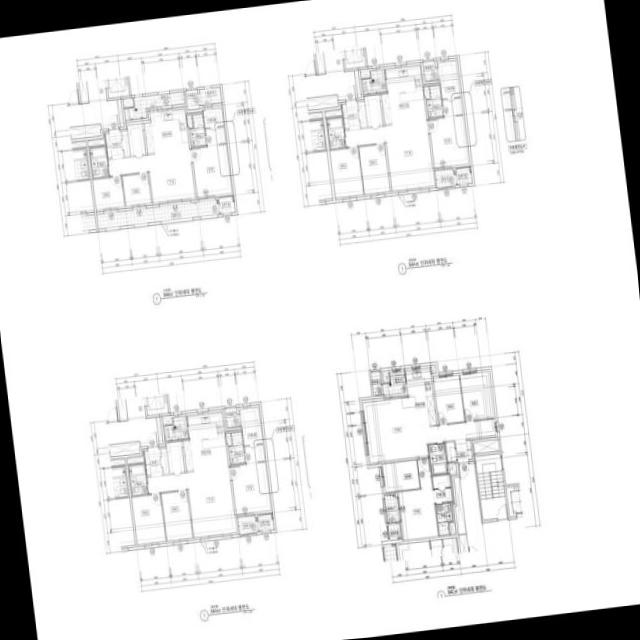background: (0, 0, 640, 640)
space_balconi: (96, 199, 219, 228), (123, 91, 184, 119), (382, 370, 406, 397), (361, 69, 386, 94), (164, 415, 188, 440), (384, 494, 399, 522), (435, 168, 456, 187), (237, 515, 258, 534), (199, 86, 221, 104)
space_bedroom: (398, 458, 437, 540), (230, 461, 270, 514), (191, 144, 231, 196), (428, 115, 468, 167), (329, 146, 363, 197), (131, 493, 165, 544), (459, 371, 493, 420), (358, 143, 389, 193), (160, 490, 191, 540), (433, 375, 464, 423), (92, 175, 124, 209), (121, 172, 150, 205)
space_dressroom: (239, 406, 264, 462), (437, 60, 462, 115), (202, 107, 225, 144), (431, 474, 452, 502)
space_front: (104, 129, 123, 159), (341, 99, 360, 129), (143, 446, 162, 475), (454, 438, 472, 462)
space_kitchen: (380, 64, 426, 124), (182, 411, 228, 470), (143, 108, 189, 153), (404, 367, 436, 427)
space_living_room: (362, 396, 495, 462), (146, 465, 236, 537), (344, 119, 434, 190), (107, 149, 195, 202)
space_multipurpose_space: (382, 459, 419, 491)
space_other: (453, 476, 466, 534), (166, 440, 184, 473), (127, 123, 145, 155), (364, 94, 382, 126), (473, 439, 499, 453), (422, 60, 437, 80), (224, 407, 239, 427), (370, 371, 382, 395), (185, 89, 199, 109), (444, 441, 456, 461), (121, 130, 129, 156), (358, 101, 366, 127), (160, 447, 168, 473), (155, 416, 162, 444), (353, 70, 360, 97), (117, 99, 123, 126), (87, 139, 104, 146), (324, 110, 341, 117), (126, 456, 143, 463), (122, 97, 133, 107), (447, 462, 455, 473), (186, 114, 192, 127), (423, 85, 429, 98), (448, 521, 454, 534), (225, 432, 231, 444), (360, 70, 370, 77), (162, 417, 172, 424), (382, 372, 389, 382), (430, 365, 435, 373)
space_outdoor_room: (218, 195, 235, 213), (455, 166, 472, 184), (257, 513, 274, 531), (387, 522, 400, 540)
space_staircase: (475, 453, 507, 519)
space_toilet: (427, 442, 447, 475), (89, 145, 108, 177), (326, 116, 345, 148), (128, 463, 147, 495), (188, 113, 205, 146), (425, 84, 442, 117), (227, 431, 244, 464), (435, 502, 452, 535)
